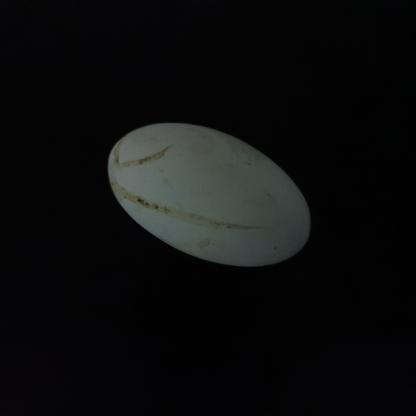egg: (104, 108, 328, 282)
